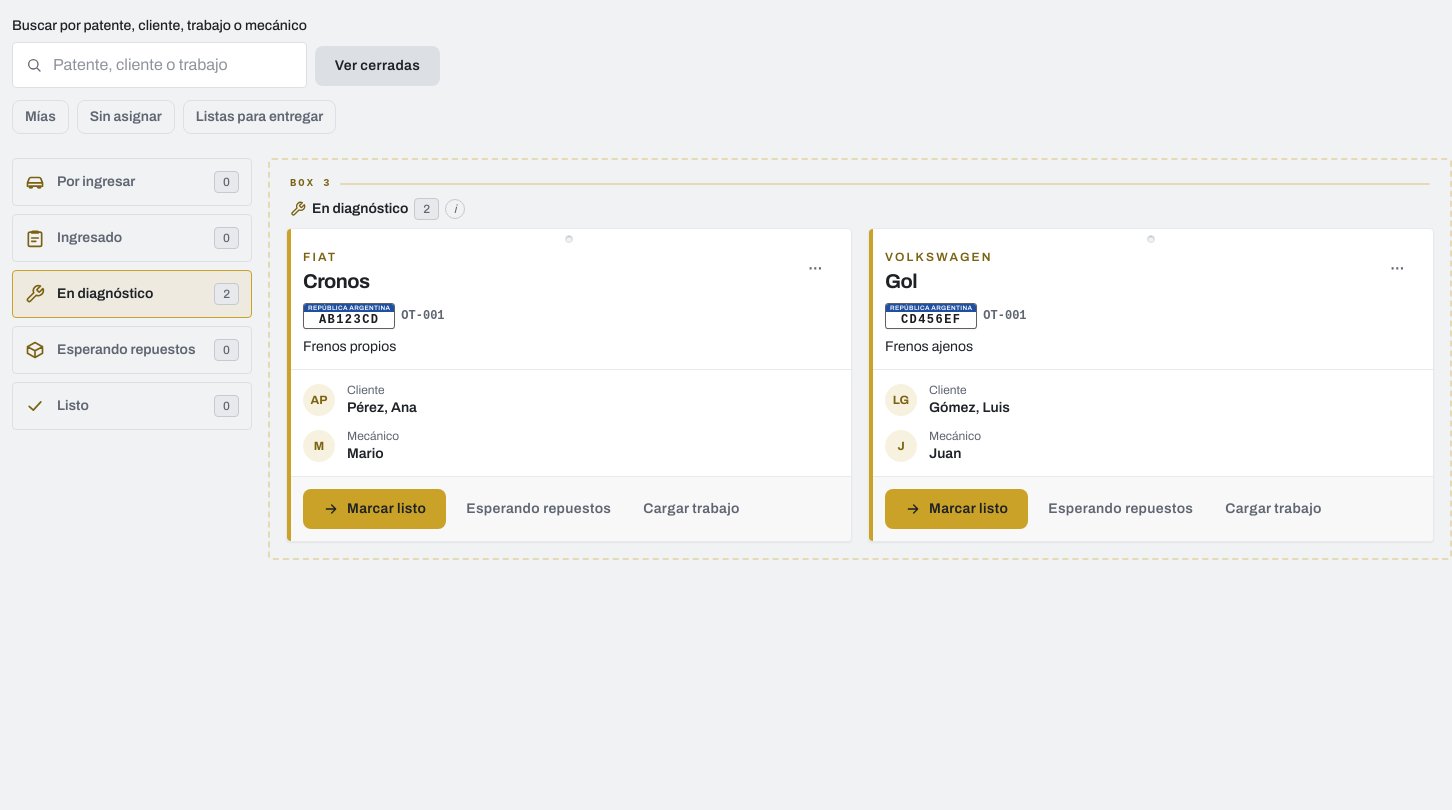
TableroOrdenes › el chip Mías solo aparece para el mecánico y filtra por mecanico_id
Click the button "Mías": (40, 117) [12,100,69,134]
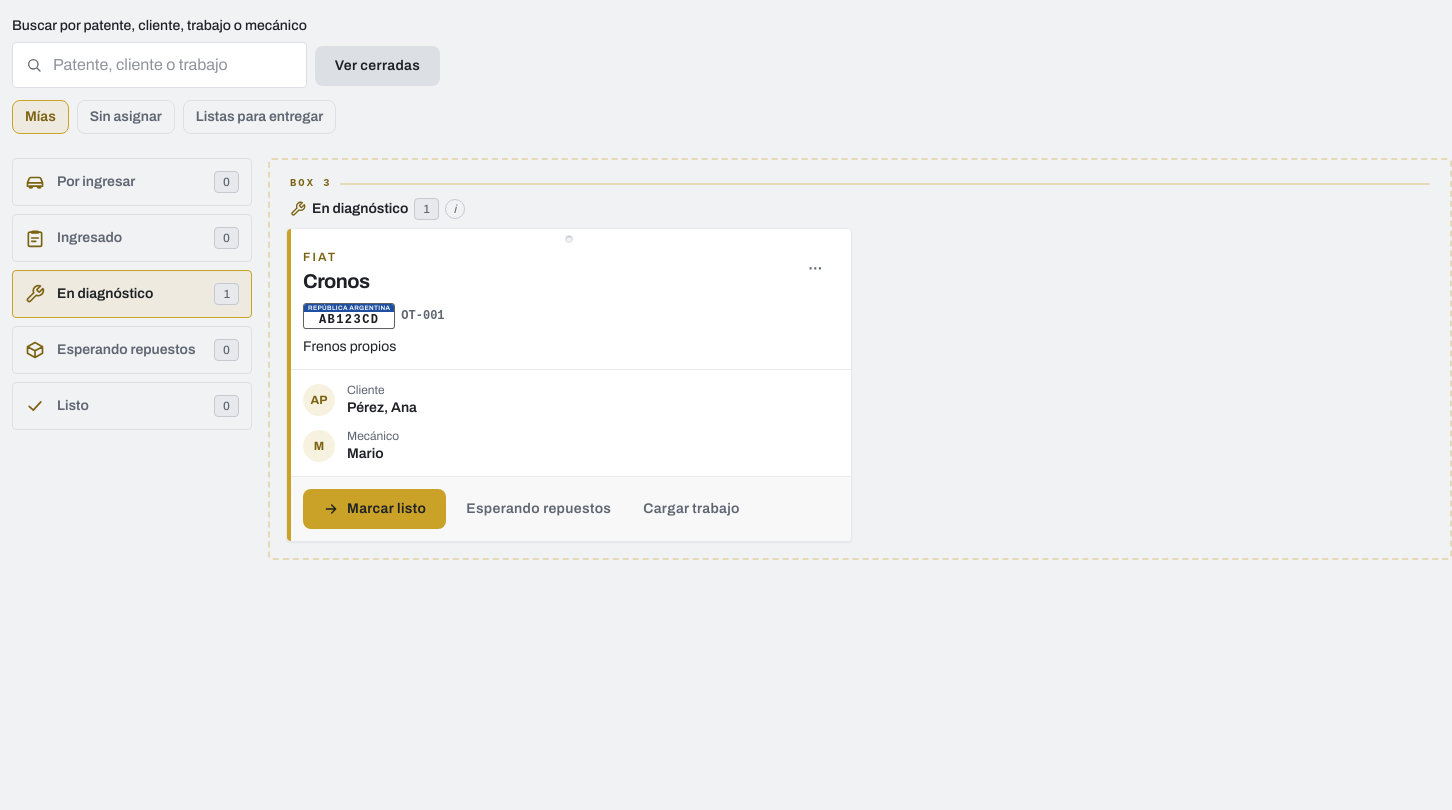
Expected: the text "Frenos propios" is shown, [303,339,396,354]
Now the text "Frenos ajenos" is gone
